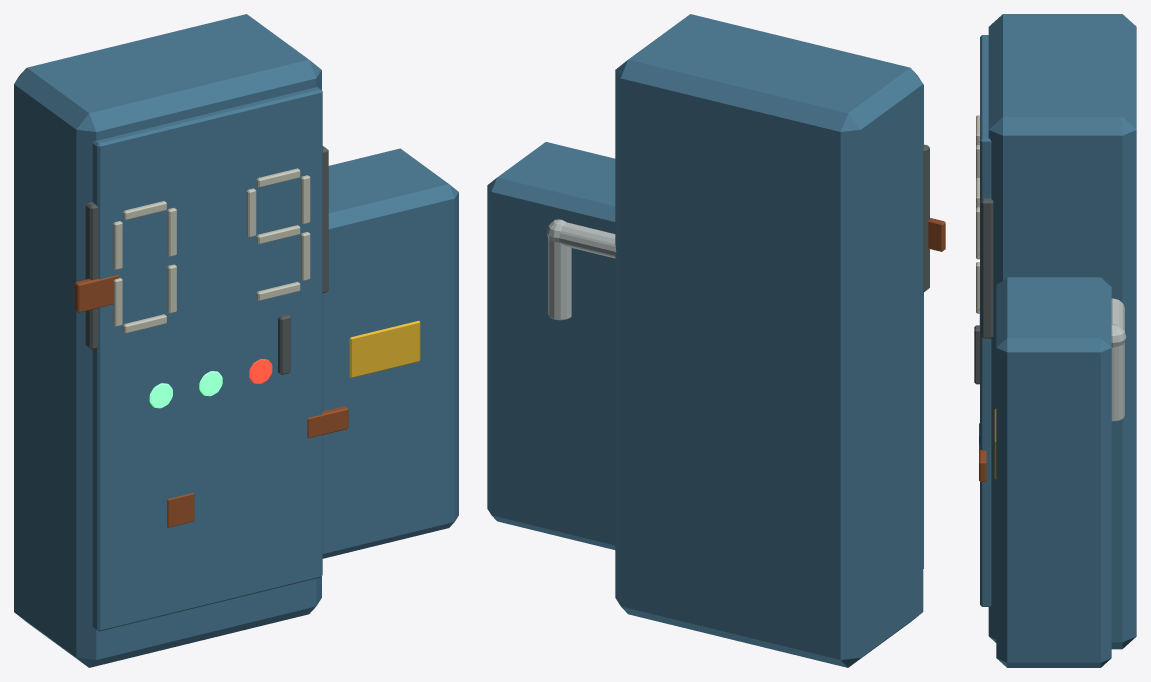
The model's file is runtime.glb.
The picture shows the model from 3 angles, left to right: view 1: azimuth 30°, elevation 25°; view 2: azimuth 150°, elevation 25°; view 3: azimuth 270°, elevation 25°; orthographic projection. The views are drawn at different scales.
Parts seen in each view (by area): view 1: reactor-control-box-v09_nocol; view 2: reactor-control-box-v09_nocol; view 3: reactor-control-box-v09_nocol.
Part boxes in pixels (box(x1,y1,x2,y2)): reactor-control-box-v09_nocol: box(14, 14, 458, 667); reactor-control-box-v09_nocol: box(487, 14, 945, 667); reactor-control-box-v09_nocol: box(974, 14, 1136, 667).
Bounding box in the file's own units: 2.02 × 2.7 × 0.7467.
